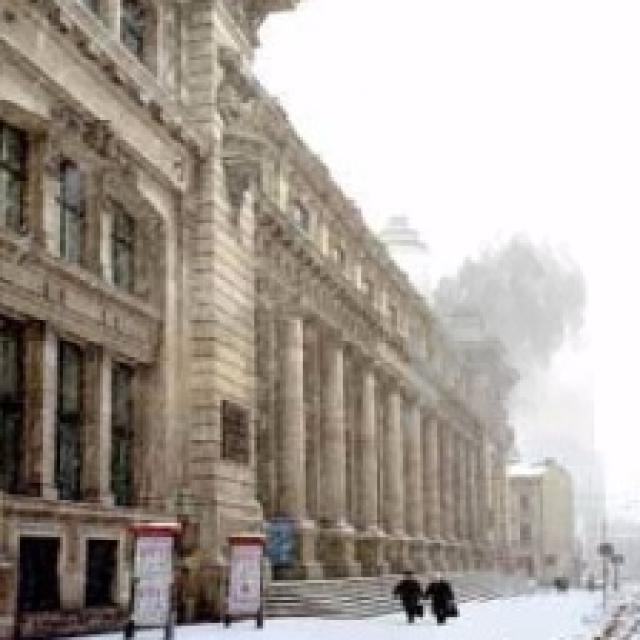smoke: (392, 223, 594, 466)
